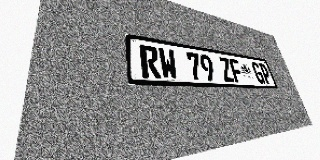7: (185, 52, 204, 81)
9: (198, 54, 217, 81)
F: (228, 58, 245, 83)
G: (251, 62, 266, 84)
P: (258, 63, 273, 84)
R: (139, 44, 161, 79)
W: (158, 47, 179, 80)
Z: (218, 57, 235, 82)
